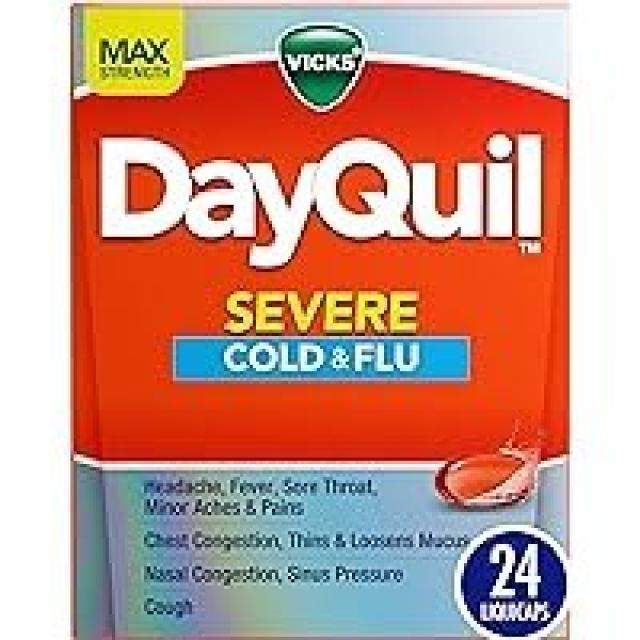medicine: (79, 4, 566, 618)
